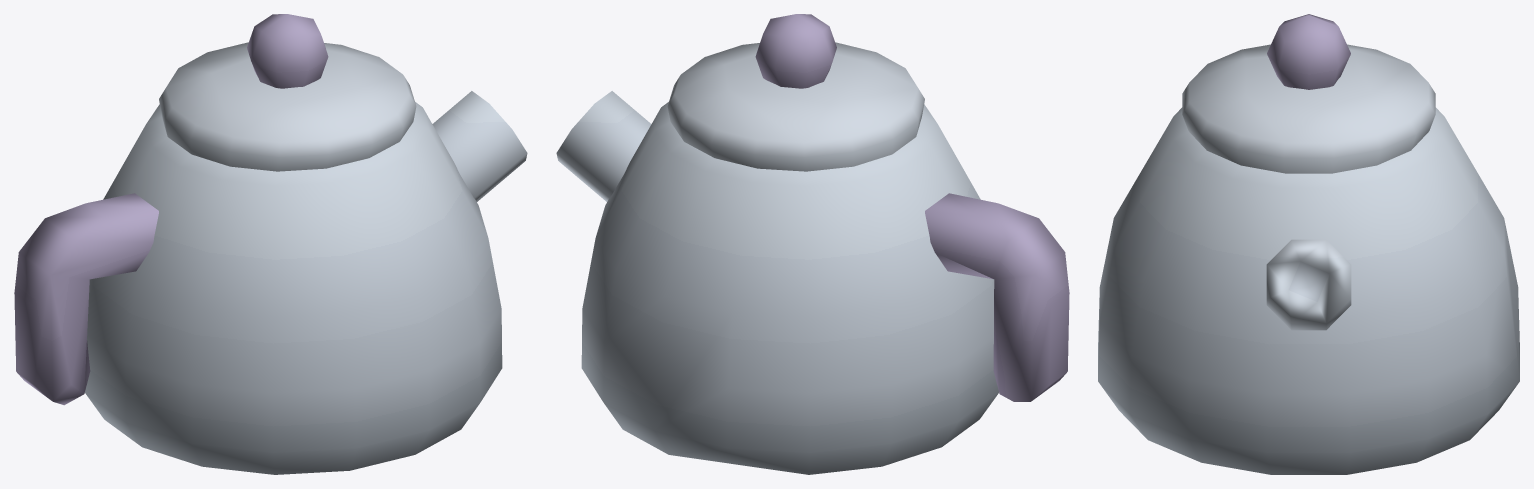
The model's file is kitchen-kettle.glb.
3 views of the same model, side by side, from view 1: azimuth 30°, elevation 25°; view 2: azimuth 150°, elevation 25°; view 3: azimuth 270°, elevation 25° (orthographic).
Visible parts, largest first — view 1: kettle; view 2: kettle; view 3: kettle.
Boxes of the visible parts, x1,y1,x2,y2 form: kettle: (14,14,527,474); kettle: (556,14,1069,474); kettle: (1098,14,1519,474).
Bounding box in the file's own units: 0.8104 × 0.5952 × 0.6.
1 material, 1 textured.
